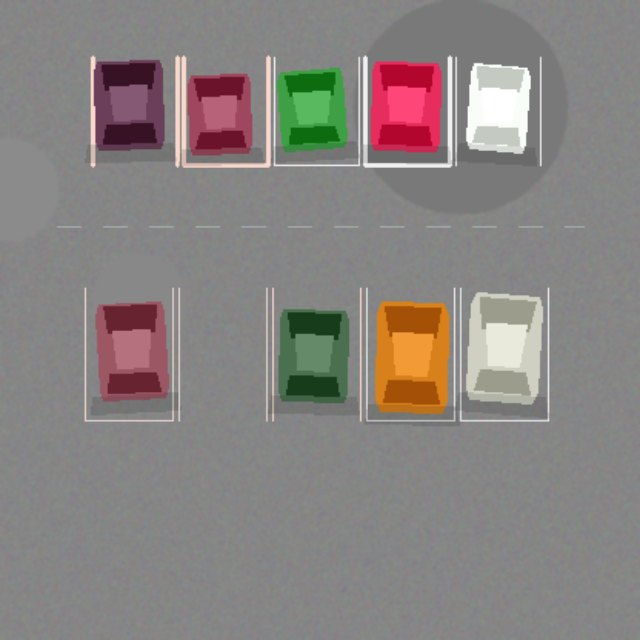space-empty: (178, 288, 266, 420)
space-occupied: (272, 288, 360, 420), (366, 288, 454, 420), (460, 288, 548, 420), (85, 288, 172, 420), (92, 57, 177, 165), (183, 57, 268, 165), (455, 57, 540, 165), (274, 57, 358, 165), (365, 57, 449, 165)
